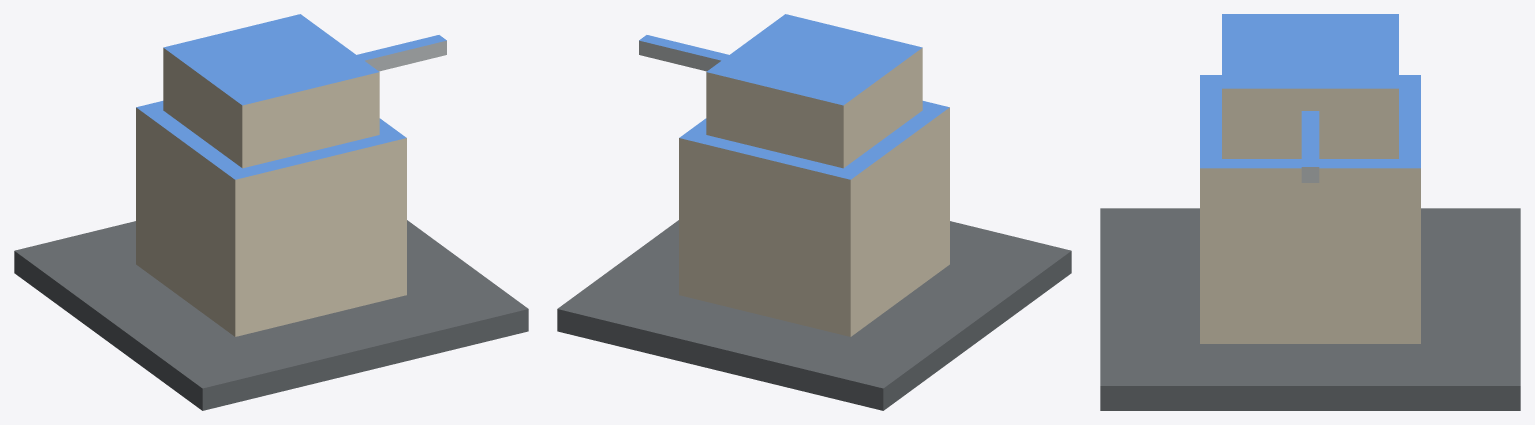
The model's file is meridian_defence_tower.glb.
The picture shows the model from 3 angles, left to right: view 1: azimuth 30°, elevation 25°; view 2: azimuth 150°, elevation 25°; view 3: azimuth 270°, elevation 25°; orthographic projection. The views are drawn at different scales.
Visible parts, largest first — view 1: hull, turret, barrel; view 2: hull, turret, barrel; view 3: hull, turret, barrel.
Boxes of the visible parts, x1=… form: hull: x1=14, y1=101, x2=528, y2=410; turret: x1=163, y1=14, x2=379, y2=168; barrel: x1=357, y1=35, x2=446, y2=71; hull: x1=557, y1=101, x2=1071, y2=410; turret: x1=706, y1=14, x2=922, y2=168; barrel: x1=639, y1=35, x2=728, y2=71; hull: x1=1100, y1=75, x2=1520, y2=410; turret: x1=1222, y1=14, x2=1398, y2=158; barrel: x1=1301, y1=111, x2=1319, y2=182.
Size of the model in its own units: 3.9 by 2.7 by 3.8.
